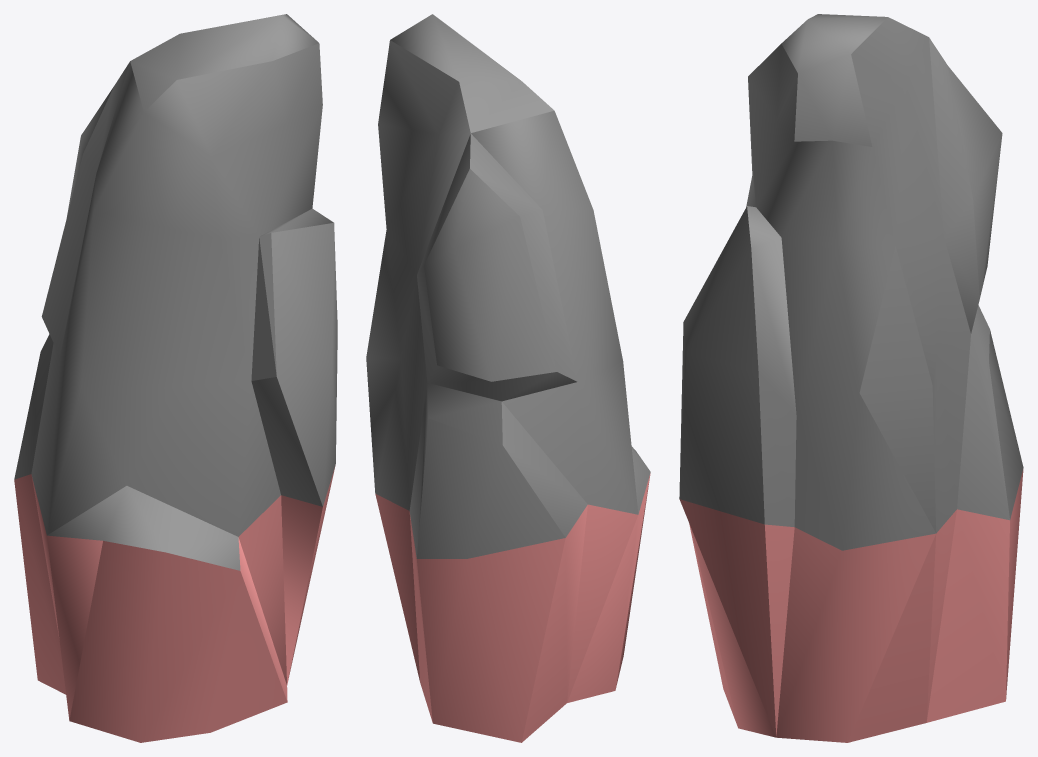
File: deco_oren_stone012.gltf
3 renders of one model, left to right at view 1: azimuth 30°, elevation 25°; view 2: azimuth 150°, elevation 25°; view 3: azimuth 270°, elevation 25°, orthographic. The views are drawn at different scales.
Parts seen in each view (by area): view 1: deco_oren_stone012; view 2: deco_oren_stone012; view 3: deco_oren_stone012.
Part boxes in pixels (bbox=[...]): deco_oren_stone012: bbox=[14, 14, 337, 742]; deco_oren_stone012: bbox=[366, 14, 650, 742]; deco_oren_stone012: bbox=[679, 14, 1023, 742].
Bounding box in the file's own units: 0.4355 × 1.06 × 0.4424.
